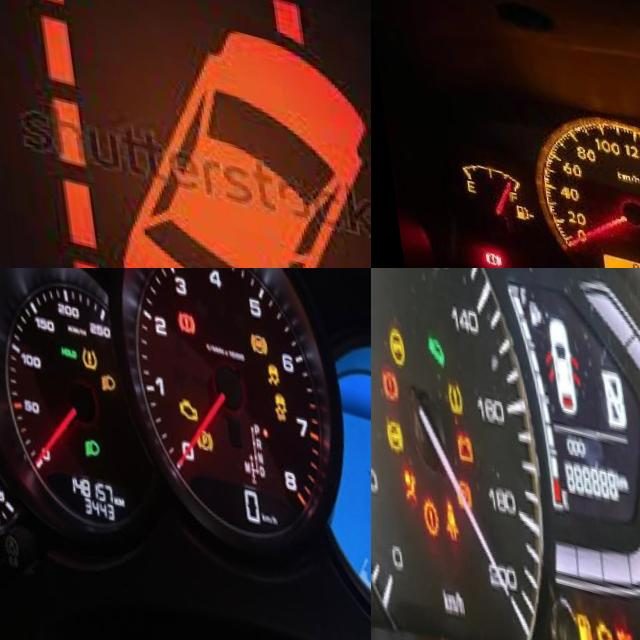Seat Belt: (430, 475, 452, 531)
